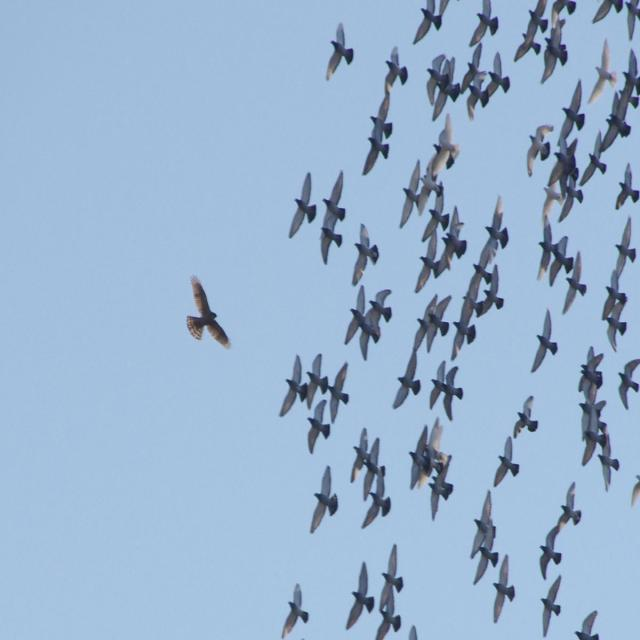bird: (188, 276, 231, 351), (408, 420, 446, 498), (578, 403, 614, 485), (414, 230, 452, 296), (598, 89, 634, 155), (438, 203, 471, 274), (412, 292, 448, 354), (348, 559, 378, 633), (288, 169, 318, 240), (430, 114, 460, 185), (423, 53, 455, 117), (400, 157, 428, 230), (310, 466, 340, 534), (279, 353, 310, 418), (362, 116, 393, 180), (550, 482, 585, 538), (532, 308, 560, 377), (429, 362, 463, 418), (320, 168, 347, 238), (602, 282, 630, 349), (490, 554, 516, 626), (482, 191, 509, 260), (327, 22, 357, 84), (353, 222, 382, 286), (518, 2, 550, 60), (613, 215, 639, 286), (592, 36, 618, 107), (346, 284, 373, 350), (481, 54, 512, 109), (426, 462, 455, 520), (326, 360, 351, 427), (280, 584, 310, 638), (349, 428, 375, 490), (564, 252, 590, 314), (415, 2, 453, 44), (471, 490, 496, 553), (577, 345, 605, 401), (536, 225, 564, 281), (590, 0, 636, 34), (475, 262, 501, 322), (538, 575, 562, 639), (525, 127, 554, 179), (361, 478, 391, 528), (393, 360, 422, 411), (365, 436, 390, 494), (493, 437, 520, 490), (425, 180, 449, 239), (580, 142, 610, 188), (375, 585, 400, 640), (562, 80, 588, 132), (380, 542, 402, 603), (596, 444, 622, 495), (615, 160, 640, 213), (472, 1, 502, 44), (450, 319, 479, 362), (542, 171, 565, 224), (307, 408, 332, 456), (538, 535, 564, 581), (617, 358, 640, 409), (514, 396, 540, 440), (384, 46, 410, 90), (470, 546, 494, 587), (571, 608, 601, 640), (553, 1, 581, 24)
